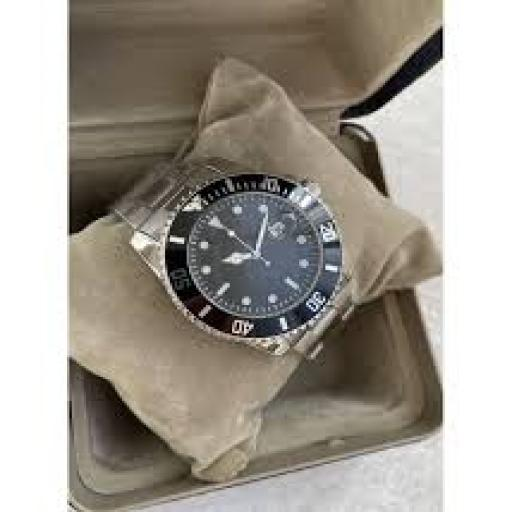KolSaati: (91, 141, 366, 391)
